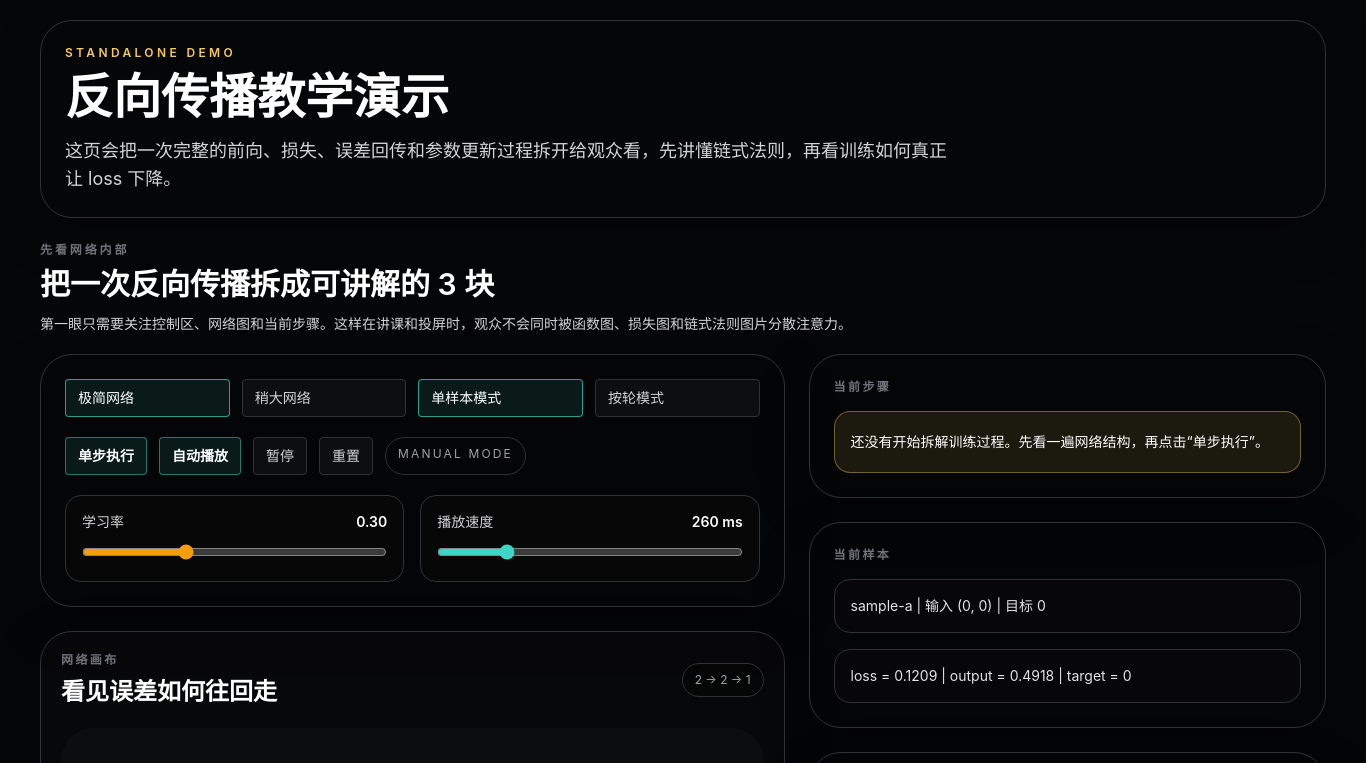
Test: BackpropDemoPage › switches to the larger network without crashing the page
Click the button "稍大网络" at (324, 398), box top-left (242, 379), bottom-right (406, 417)
(page scrolled)
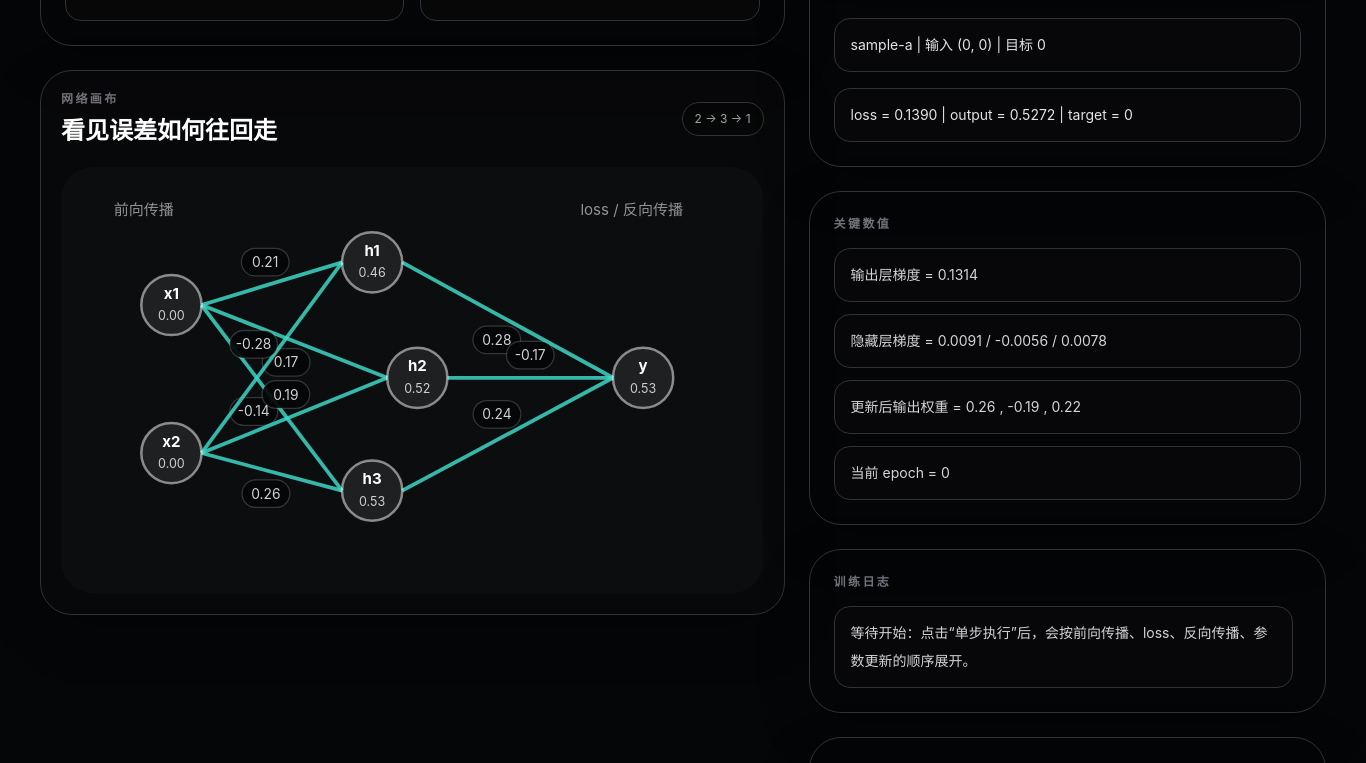
Expected: the icon named "反向传播网络画布" is shown, top-left (61, 167), bottom-right (764, 594)
Result: the text "2 -> 3 -> 1" is shown at top-left (682, 102), bottom-right (764, 136)
